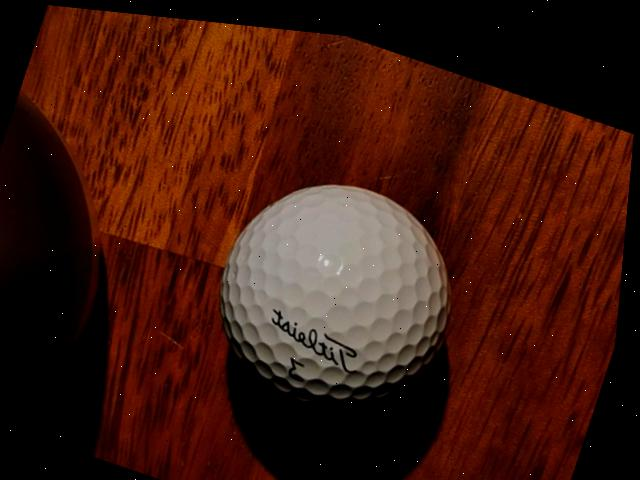Ball: (194, 143, 489, 443)
Titleist: (268, 300, 377, 368)
